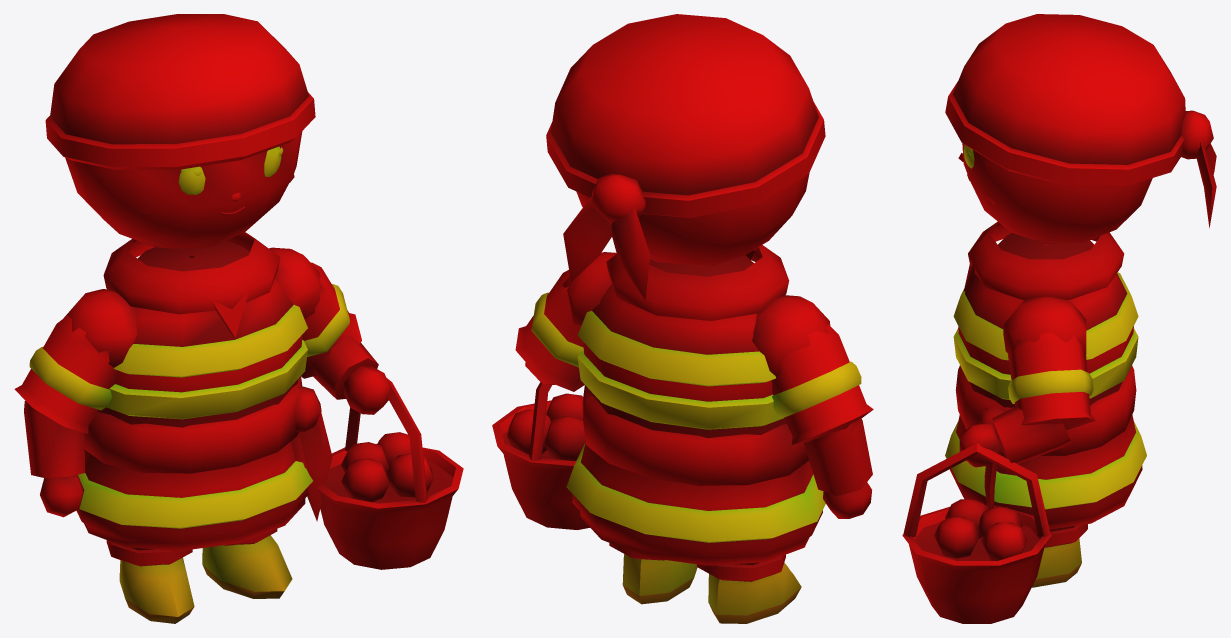
The model's file is PirateDeckhand_food.glb.
3 renders of one model, left to right at view 1: azimuth 30°, elevation 25°; view 2: azimuth 150°, elevation 25°; view 3: azimuth 270°, elevation 25°, orthographic. The views are drawn at different scales.
Parts seen in each view (by area): view 1: PirateDeckhand_food; view 2: PirateDeckhand_food; view 3: PirateDeckhand_food.
Boxes of the visible parts, box(x1,y1,x2,y2) form: PirateDeckhand_food: box(14, 14, 463, 623); PirateDeckhand_food: box(492, 14, 873, 623); PirateDeckhand_food: box(902, 14, 1216, 623).
Bounding box in the file's own units: 0.605 × 0.8097 × 0.4485.
